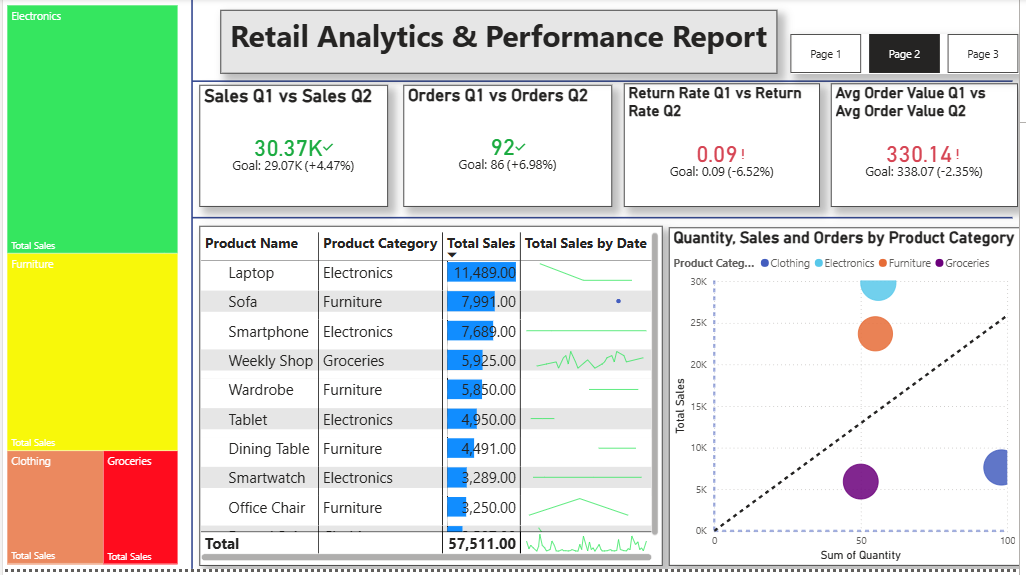

The page's visual inventory and layout, read from the dashboard file:
{"tool":"powerbi","page":{"name":"Page 2","canvas":[1280,720],"ordinal":1},"visuals":[{"type":"tableEx","fields":{"Values":["Dataset_2.Product Name","Dataset_2.Product Category","Dataset_2.Total Sales","SparklineData(Dataset_2.Total Sales_[Dataset_2.Date])"]},"box":[247,286.8,583.6,428.2],"z":0},{"type":"treemap","fields":{"Group":["Dataset_2.Product Name","Dataset_2.Product Category"],"Values":["Sum(Dataset_2.Quantity)","Dataset_2.Avg Rating","Dataset_2.Total Sales"]},"box":[0,4,225.1,715],"z":1000},{"type":"scatterChart","title":"Quantity, Sales and Orders by Product Category","fields":{"Series":["Dataset_2.Product Category"],"X":["Sum(Dataset_2.Quantity)"],"Y":["Dataset_2.Total Sales"],"Size":["Dataset_2.Total Orders"]},"box":[838.5,288.8,442.2,426.2],"z":2000},{"type":"shape","box":[239,241,1033.7,69.7],"z":3000},{"type":"shape","box":[239,69.7,1033.7,69.7],"z":4000},{"type":"shape","box":[201.2,0,75.7,719],"z":5000},{"type":"kpi","title":"Sales Q1 vs Sales Q2","fields":{"Indicator":["Dataset_2.Sales Current Q"],"Goal":["Dataset_2.Sales Previous Q"],"TrendLine":["Dataset_2.Date"]},"box":[247,109.5,237,153.4],"z":6000},{"type":"kpi","title":"Orders Q1 vs Orders Q2 ","fields":{"Indicator":["Dataset_2.Orders current Q"],"Goal":["Dataset_2.Orders previous Q"],"TrendLine":["Dataset_2.Date"]},"box":[503.9,109.5,262.9,153.4],"z":7000},{"type":"kpi","title":"Return Rate Q1 vs Return Rate Q2 ","fields":{"Indicator":["Dataset_2.Return Rate current Q"],"Goal":["Dataset_2.Return Rate previous Q"],"TrendLine":["Dataset_2.Date"]},"box":[782.8,107.6,247,155.4],"z":8000},{"type":"kpi","title":"Avg Order Value Q1 vs Avg Order Value Q2","fields":{"Indicator":["Dataset_2.Avg Order Value current Q"],"Goal":["Dataset_2.Avg Order Value previous Q"],"TrendLine":["Dataset_2.Date"]},"box":[1043.7,107.6,235,155.4],"z":9000},{"type":"pageNavigator","box":[991.9,45.8,288.8,49.8],"z":10000},{"type":"textbox","box":[274.9,15.9,701.1,79.7],"z":11000}]}

Visuals, with their boxes in screenshot pixels (x1, y1, x2, y2), scaled from the page's 1280x720 canvas onto the 1026x575 screenshot:
tableEx - Dataset_2.Product Name x Dataset_2.Product Category: locate(198, 229, 666, 571)
treemap - Dataset_2.Product Name x Dataset_2.Product Category: locate(0, 3, 180, 574)
"Quantity, Sales and Orders by Product Category" scatterChart: locate(672, 231, 1025, 571)
shape: locate(192, 192, 1020, 248)
shape: locate(192, 56, 1020, 111)
shape: locate(161, 0, 222, 574)
"Sales Q1 vs Sales Q2" kpi: locate(198, 87, 388, 210)
"Orders Q1 vs Orders Q2 " kpi: locate(404, 87, 615, 210)
"Return Rate Q1 vs Return Rate Q2 " kpi: locate(627, 86, 825, 210)
"Avg Order Value Q1 vs Avg Order Value Q2" kpi: locate(837, 86, 1025, 210)
pageNavigator: locate(795, 37, 1025, 76)
textbox: locate(220, 13, 782, 76)
